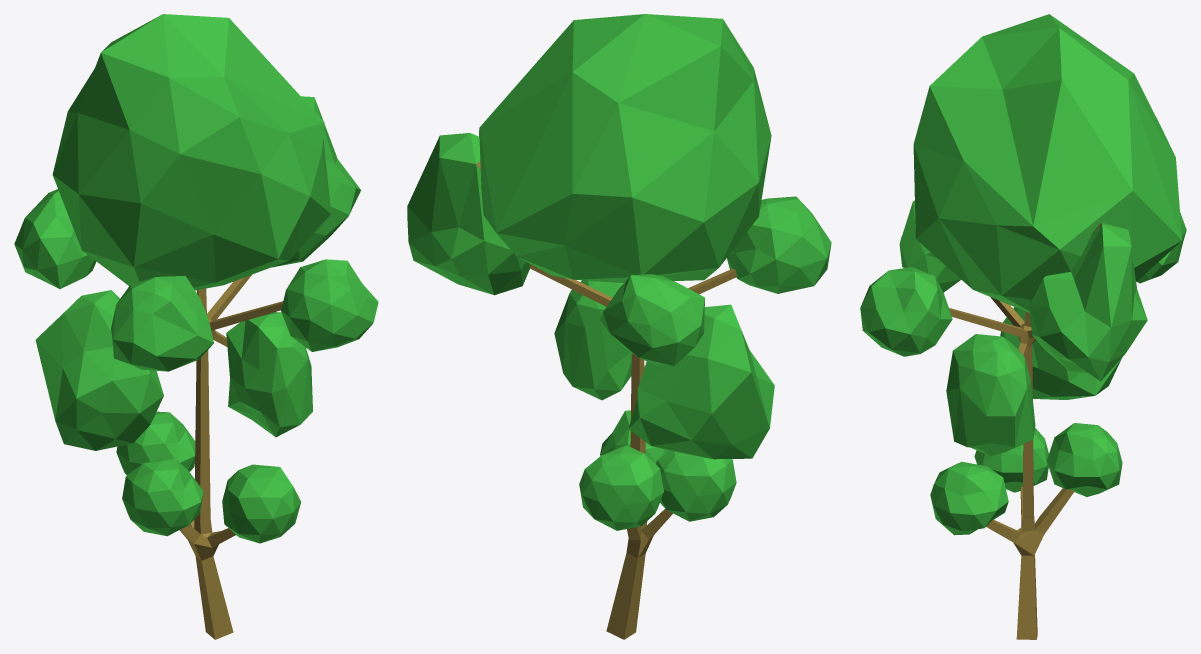
Rendered from TreeType4.fbx.
3 views of the same model, side by side, from view 1: azimuth 30°, elevation 25°; view 2: azimuth 150°, elevation 25°; view 3: azimuth 270°, elevation 25° (orthographic). The views are drawn at different scales.
Parts seen in each view (by area): view 1: Tree Tpye 4; view 2: Tree Tpye 4; view 3: Tree Tpye 4.
Part boxes in pixels (x1,y1,x2,y2): Tree Tpye 4: [14, 14, 378, 639]; Tree Tpye 4: [407, 14, 831, 639]; Tree Tpye 4: [860, 14, 1186, 639].
Size of the model in its own units: 908 by 1633 by 816.
